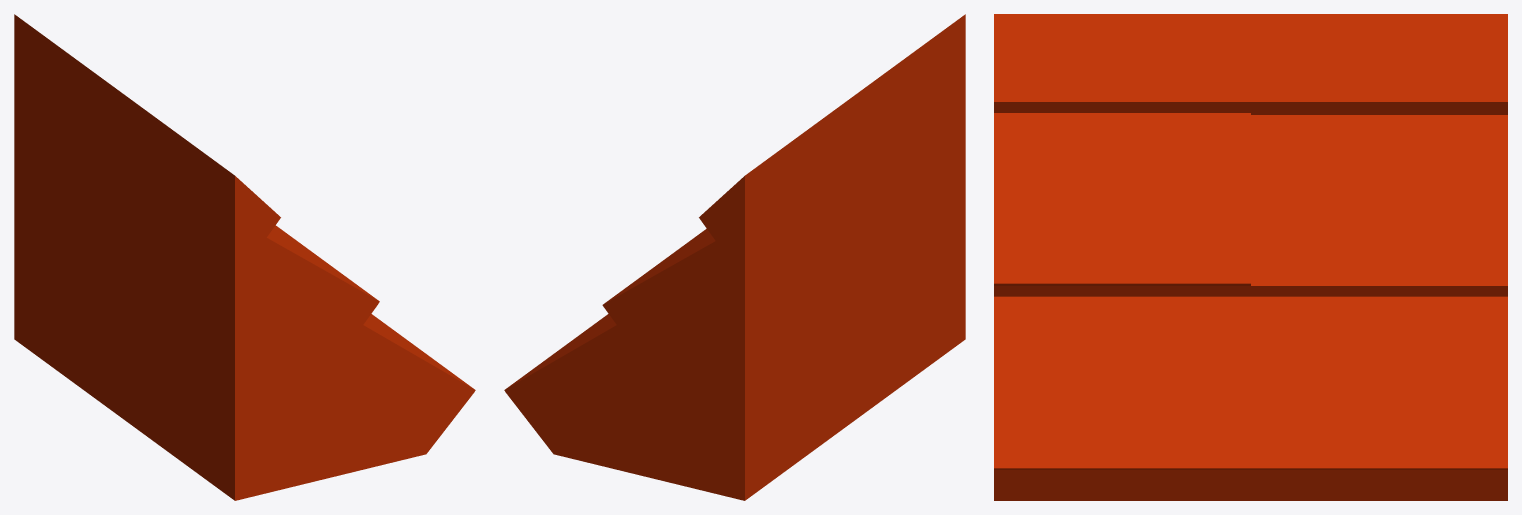
The model's file is Building_Modular_Roof_Piece_04.fbx.
3 renders of one model, left to right at view 1: azimuth 30°, elevation 25°; view 2: azimuth 150°, elevation 25°; view 3: azimuth 270°, elevation 25°, orthographic. The views are drawn at different scales.
Visible parts, largest first — view 1: Model; view 2: Model; view 3: Model.
Boxes of the visible parts, x1=… form: Model: x1=14, y1=14, x2=475, y2=500; Model: x1=504, y1=14, x2=965, y2=500; Model: x1=994, y1=14, x2=1507, y2=500.
Size of the model in its own units: 134 by 172 by 212.
